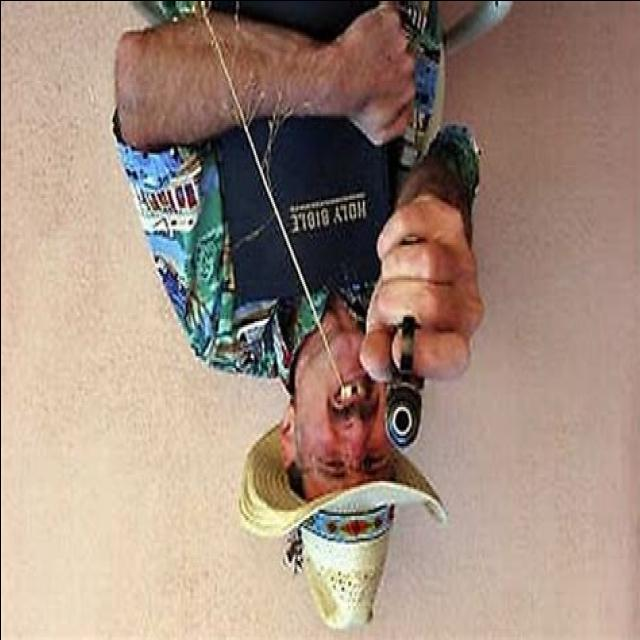weapons: (362, 235, 454, 488)
